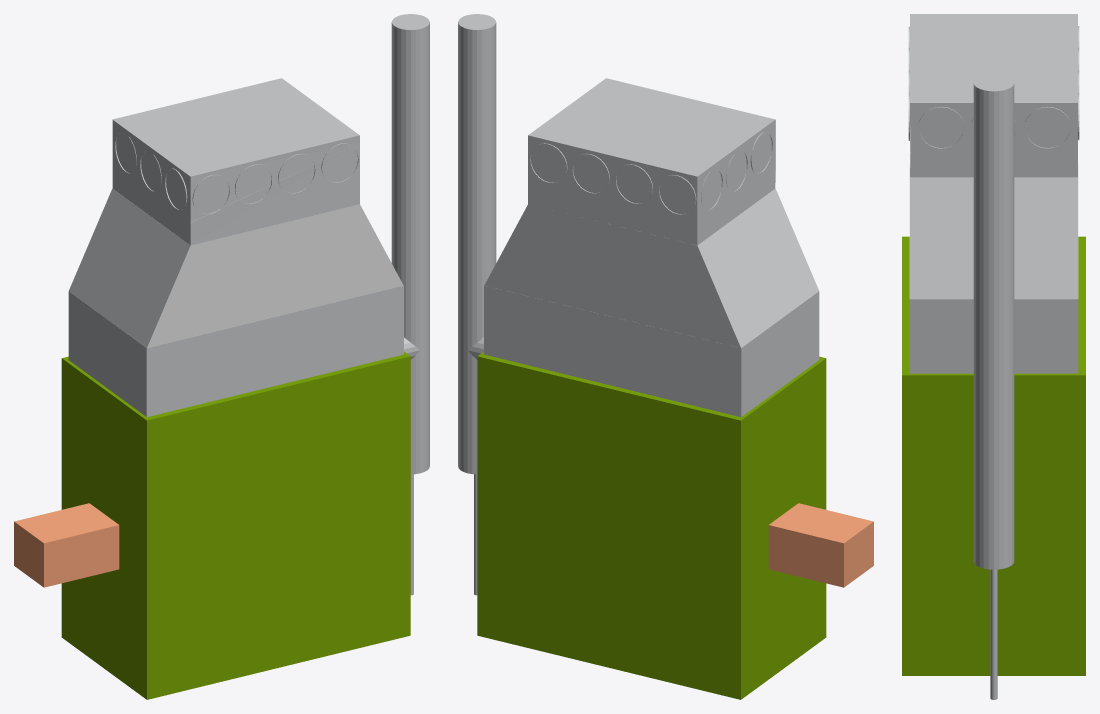
The model's file is wanson.5.glb.
The picture shows the model from 3 angles, left to right: view 1: azimuth 30°, elevation 25°; view 2: azimuth 150°, elevation 25°; view 3: azimuth 270°, elevation 25°; orthographic projection. The views are drawn at different scales.
Visible parts, largest first — view 1: imagetostl_mesh85, imagetostl_mesh86, imagetostl_mesh556, imagetostl_mesh558, imagetostl_mesh155, imagetostl_mesh560, imagetostl_mesh702, imagetostl_mesh559, imagetostl_mesh561, imagetostl_mesh50, imagetostl_mesh36, imagetostl_mesh14 (+12 smaller); view 2: imagetostl_mesh82, imagetostl_mesh86, imagetostl_mesh790, imagetostl_mesh563, imagetostl_mesh155, imagetostl_mesh564, imagetostl_mesh702, imagetostl_mesh559, imagetostl_mesh561, imagetostl_mesh55, imagetostl_mesh36, imagetostl_mesh1 (+12 smaller); view 3: imagetostl_mesh84, imagetostl_mesh692, imagetostl_mesh155, imagetostl_mesh557, imagetostl_mesh565, imagetostl_mesh7, imagetostl_mesh16, imagetostl_mesh17, imagetostl_mesh37, imagetostl_mesh0, imagetostl_mesh20, imagetostl_mesh30 (+7 smaller).
Part boxes in pixels (bbox=[...]): imagetostl_mesh85: bbox=[147, 356, 410, 699]; imagetostl_mesh86: bbox=[61, 358, 146, 699]; imagetostl_mesh556: bbox=[147, 204, 403, 347]; imagetostl_mesh558: bbox=[146, 285, 403, 416]; imagetostl_mesh155: bbox=[112, 78, 359, 176]; imagetostl_mesh560: bbox=[190, 135, 359, 245]; imagetostl_mesh702: bbox=[69, 188, 190, 347]; imagetostl_mesh559: bbox=[68, 291, 146, 416]; imagetostl_mesh561: bbox=[112, 120, 190, 245]; imagetostl_mesh50: bbox=[44, 525, 119, 587]; imagetostl_mesh36: bbox=[14, 503, 118, 543]; imagetostl_mesh14: bbox=[420, 28, 424, 473]; imagetostl_mesh82: bbox=[477, 356, 740, 699]; imagetostl_mesh86: bbox=[741, 358, 826, 699]; imagetostl_mesh790: bbox=[484, 204, 740, 347]; imagetostl_mesh563: bbox=[484, 285, 741, 416]; imagetostl_mesh155: bbox=[528, 78, 775, 176]; imagetostl_mesh564: bbox=[528, 135, 697, 245]; imagetostl_mesh702: bbox=[697, 188, 818, 347]; imagetostl_mesh559: bbox=[741, 291, 819, 416]; imagetostl_mesh561: bbox=[697, 119, 775, 245]; imagetostl_mesh55: bbox=[768, 525, 843, 587]; imagetostl_mesh36: bbox=[769, 503, 873, 543]; imagetostl_mesh1: bbox=[463, 28, 467, 473]; imagetostl_mesh84: bbox=[902, 375, 1085, 675]; imagetostl_mesh692: bbox=[910, 177, 1077, 299]; imagetostl_mesh155: bbox=[910, 14, 1077, 102]; imagetostl_mesh557: bbox=[909, 299, 1078, 373]; imagetostl_mesh565: bbox=[910, 103, 1077, 177]; imagetostl_mesh7: bbox=[988, 91, 993, 569]; imagetostl_mesh16: bbox=[999, 90, 1004, 569]; imagetostl_mesh17: bbox=[983, 90, 988, 569]; imagetostl_mesh37: bbox=[994, 91, 999, 569]; imagetostl_mesh0: bbox=[902, 236, 1085, 375]; imagetostl_mesh20: bbox=[979, 89, 983, 568]; imagetostl_mesh30: bbox=[1004, 89, 1008, 568].
Size of the model in its own units: 3.33 by 4.57 by 1.24.
